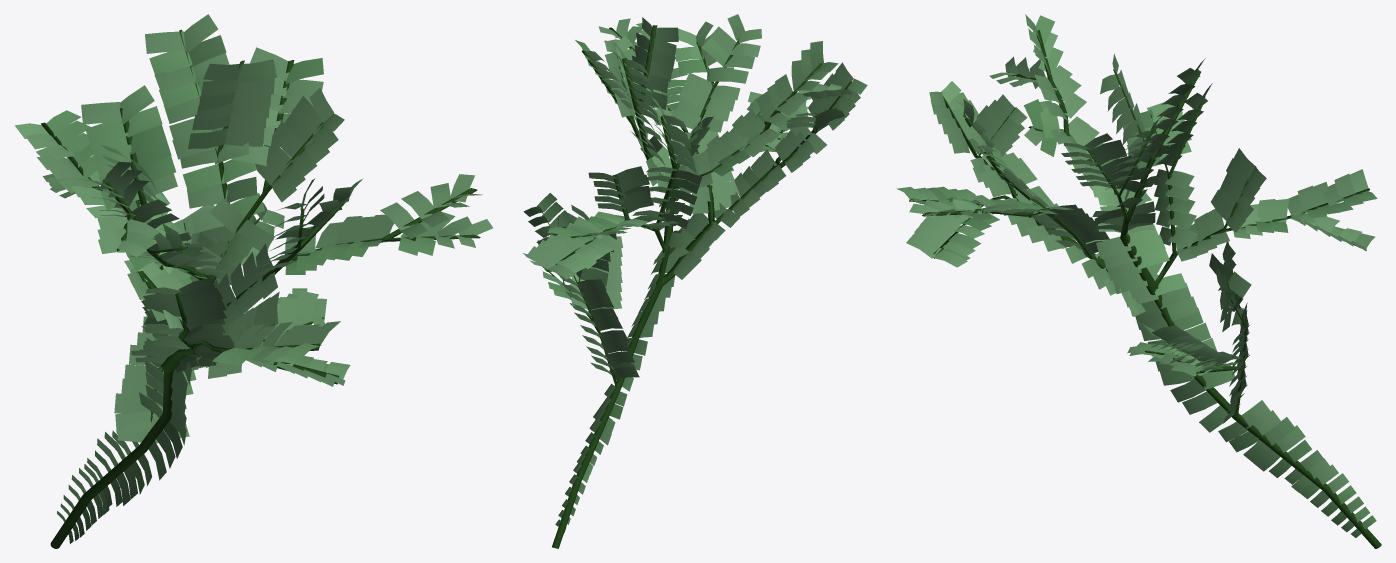
File: plante grimpante.FBX
3 renders of one model, left to right at view 1: azimuth 30°, elevation 25°; view 2: azimuth 150°, elevation 25°; view 3: azimuth 270°, elevation 25°, orthographic. The views are drawn at different scales.
Parts seen in each view (by area): view 1: Object001; view 2: Object001; view 3: Object001.
Part boxes in pixels (x1,y1,x2,y2): Object001: (14, 14, 493, 548); Object001: (523, 14, 867, 548); Object001: (896, 14, 1381, 548).
Size of the model in its own units: 7.34 by 11.72 by 10.41.
